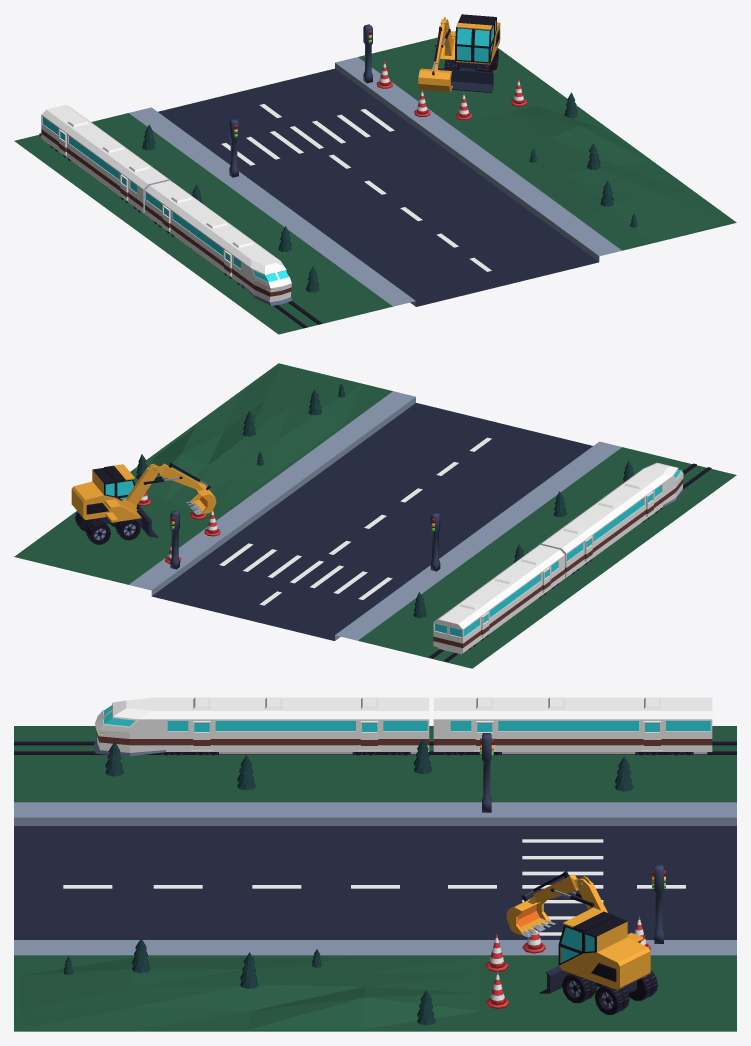
The model's file is Road7.fbx.
3 renders of one model, top to bottom at view 1: azimuth 30°, elevation 25°; view 2: azimuth 150°, elevation 25°; view 3: azimuth 270°, elevation 25°, orthographic. The views are drawn at different scales.
Parts seen in each view (by area): view 1: Road7; view 2: Road7; view 3: Road7.
Part boxes in pixels (x1,y1,x2,y2): Road7: [14, 14, 736, 334]; Road7: [14, 363, 736, 668]; Road7: [14, 697, 736, 1031].
Size of the model in its own units: 20 by 3.28 by 20.
